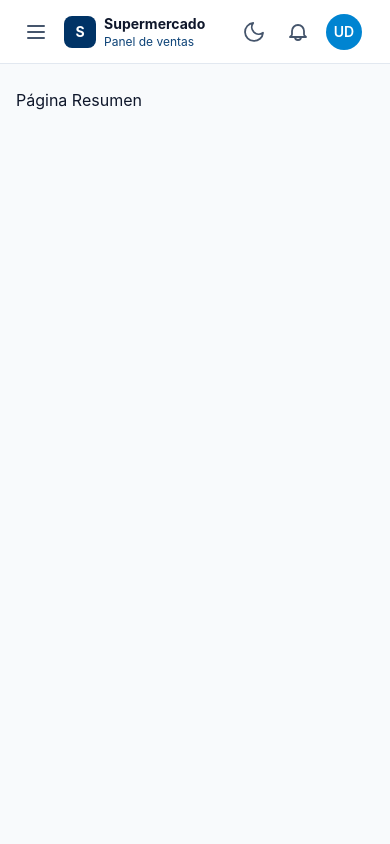
Scenario: PanelLayout: cajón móvil › se abre con el botón de menú y se cierra con Escape
Click the button named "Abrir menú": (36, 32) top-left (16, 12), bottom-right (56, 52)
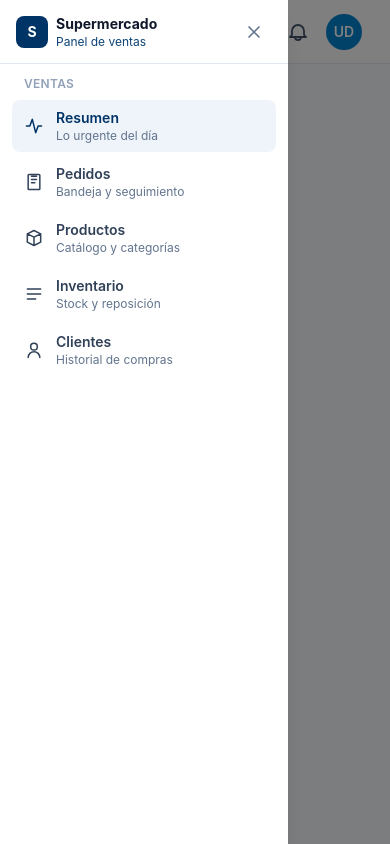
Result: the dialog named "Menú" is shown
Result: the button named "Abrir menú" is expanded at top-left (16, 12), bottom-right (56, 52)
Press Escape
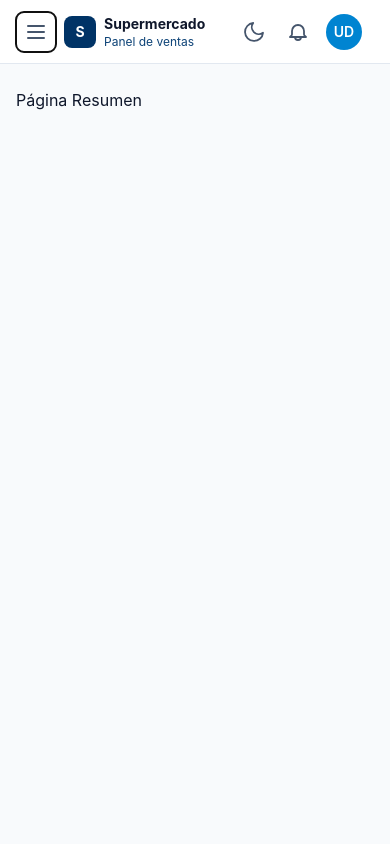
Result: the button "Menú" is gone
